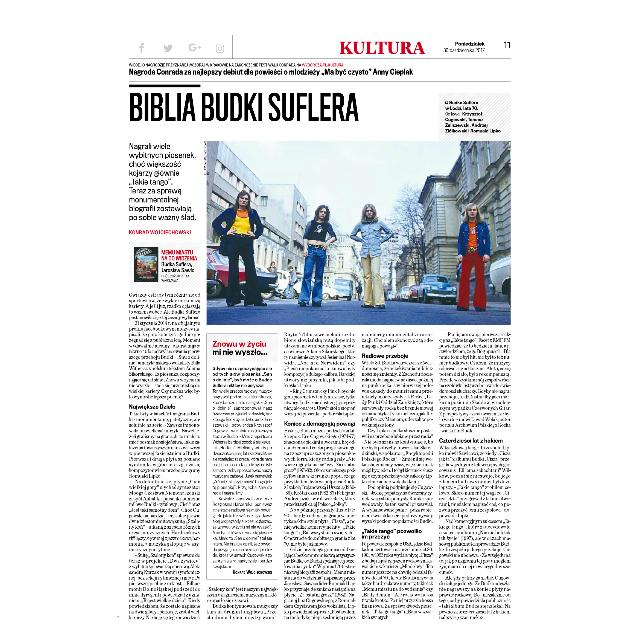article: (128, 82, 512, 622)
